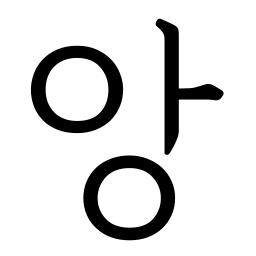Gaji: (142, 72, 197, 118)
